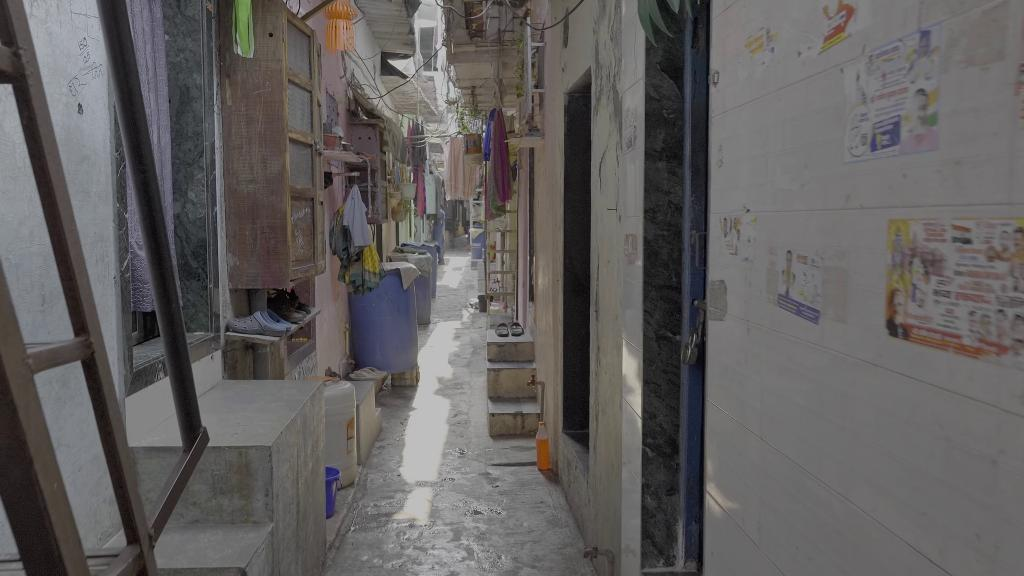garbage: (533, 415, 556, 474)
